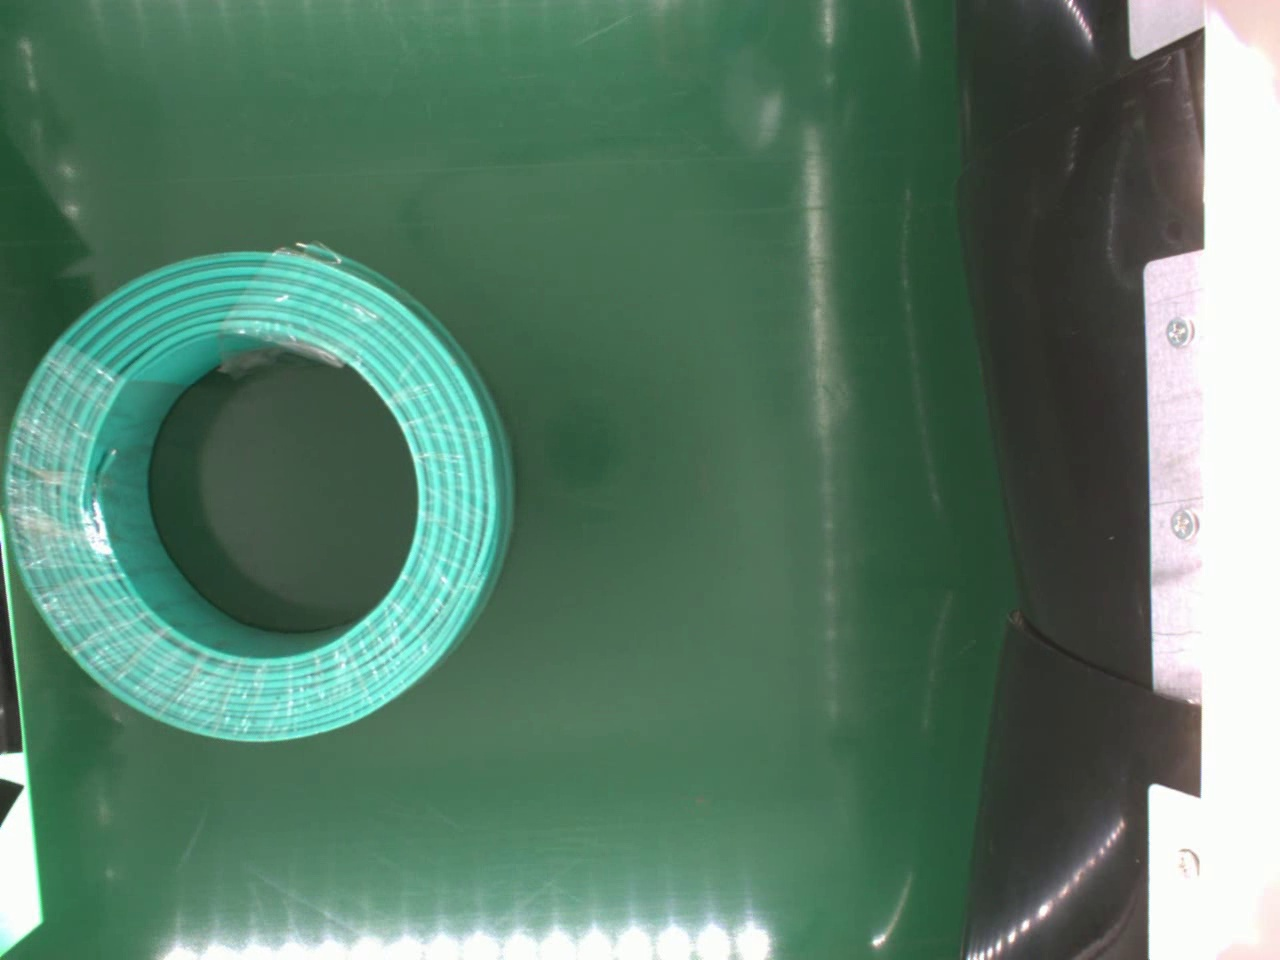green: (8, 247, 518, 741)
